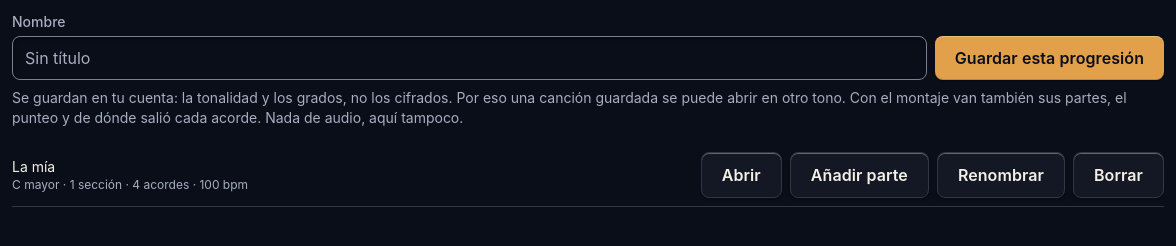
Scenario: renombrar › «dejarlo» no manda nada
Click the button "Renombrar": (1001,175) 937,152 -> 1065,198
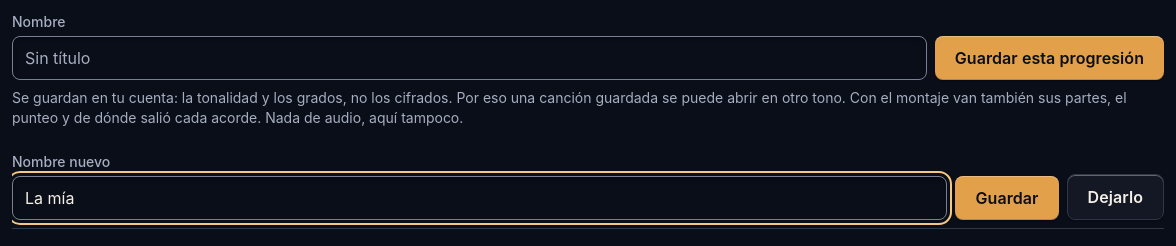
Click the button "Dejarlo": (1115,197) 1066,174 -> 1164,220
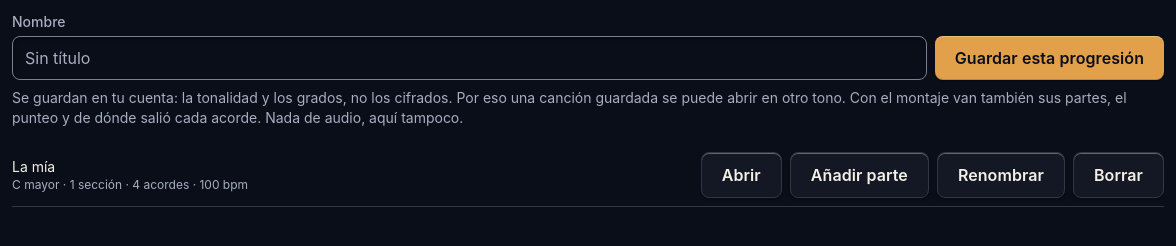
Now the text "La mía" is shown, box 12,158 -> 55,175
